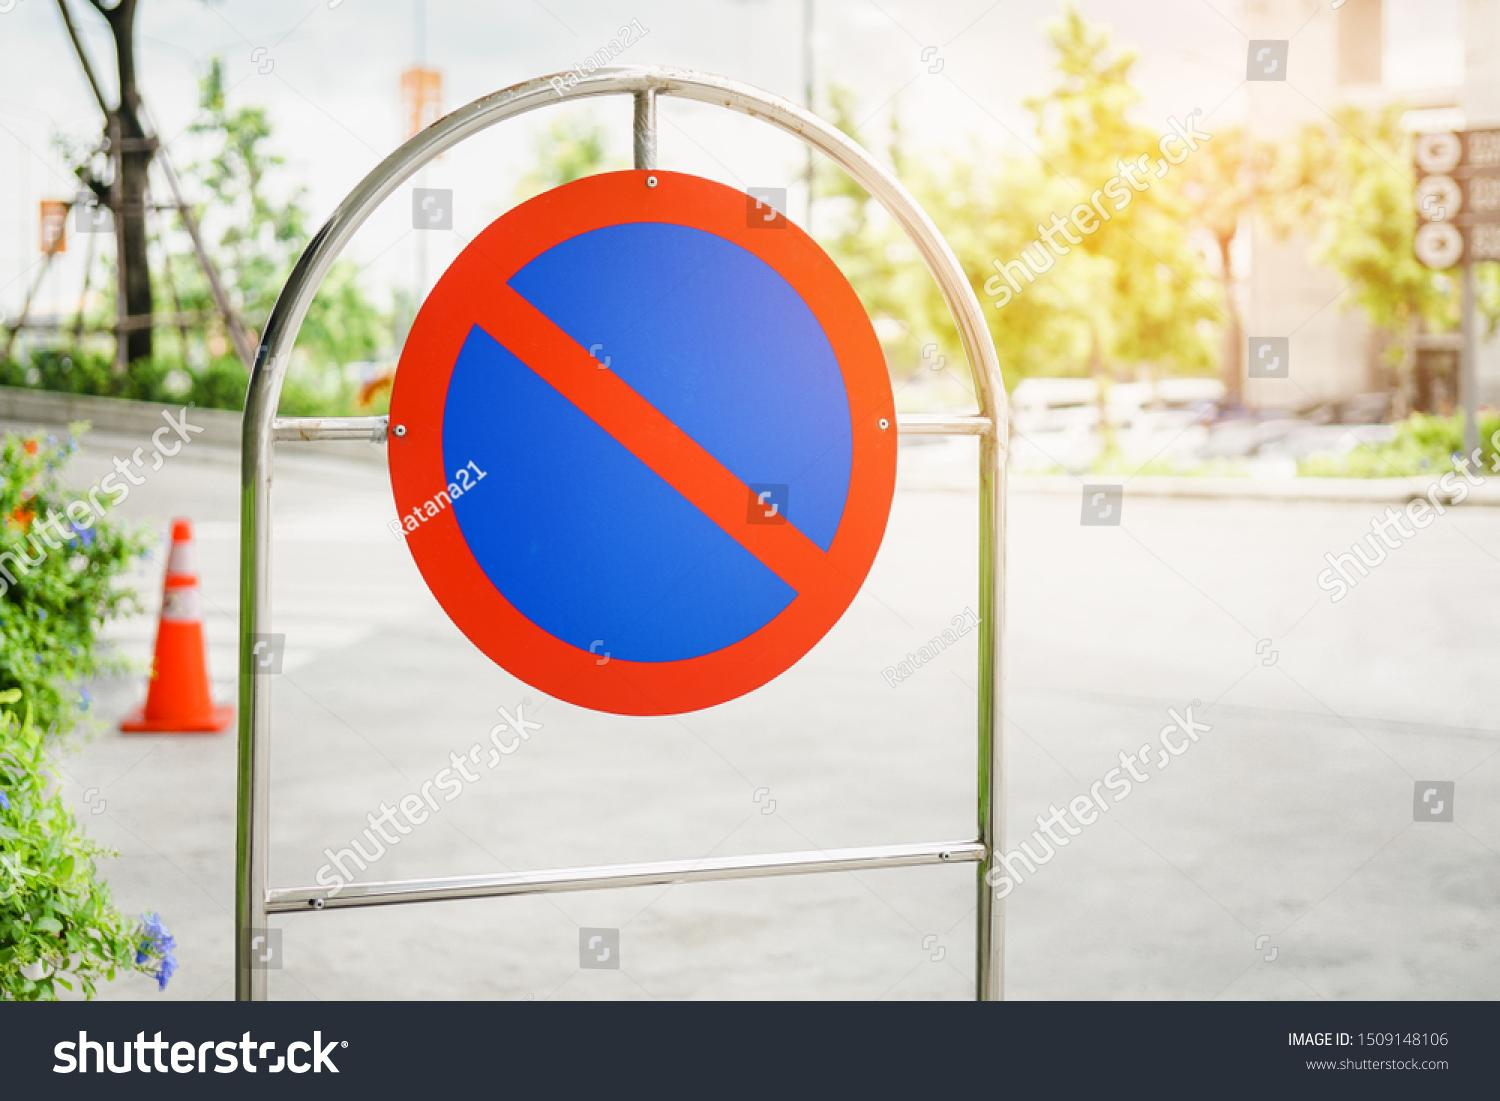No Parking: (413, 170, 891, 720)
